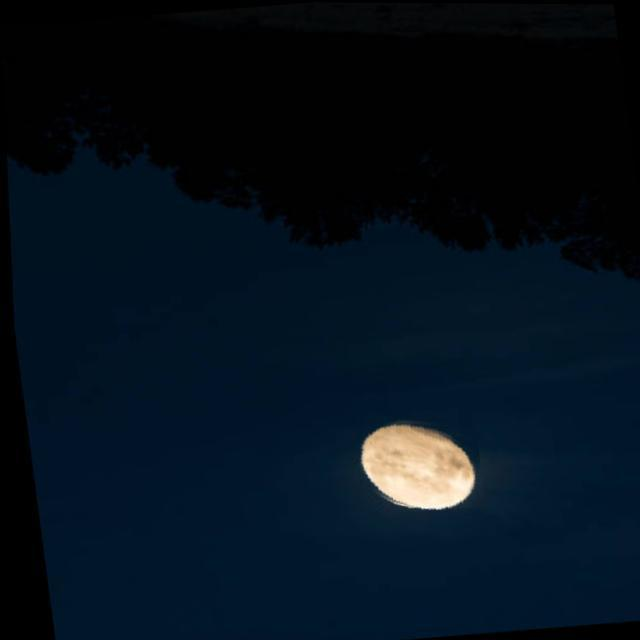moon: (344, 408, 482, 516)
